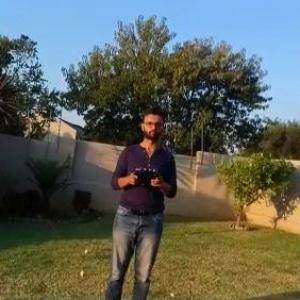follow: (99, 106, 183, 299)
